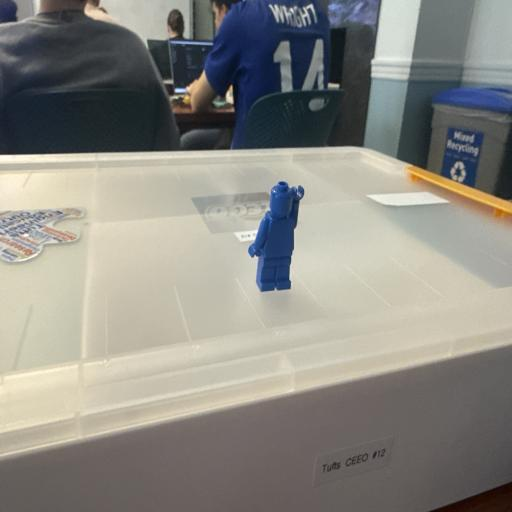Minifig: (248, 181, 304, 291)
